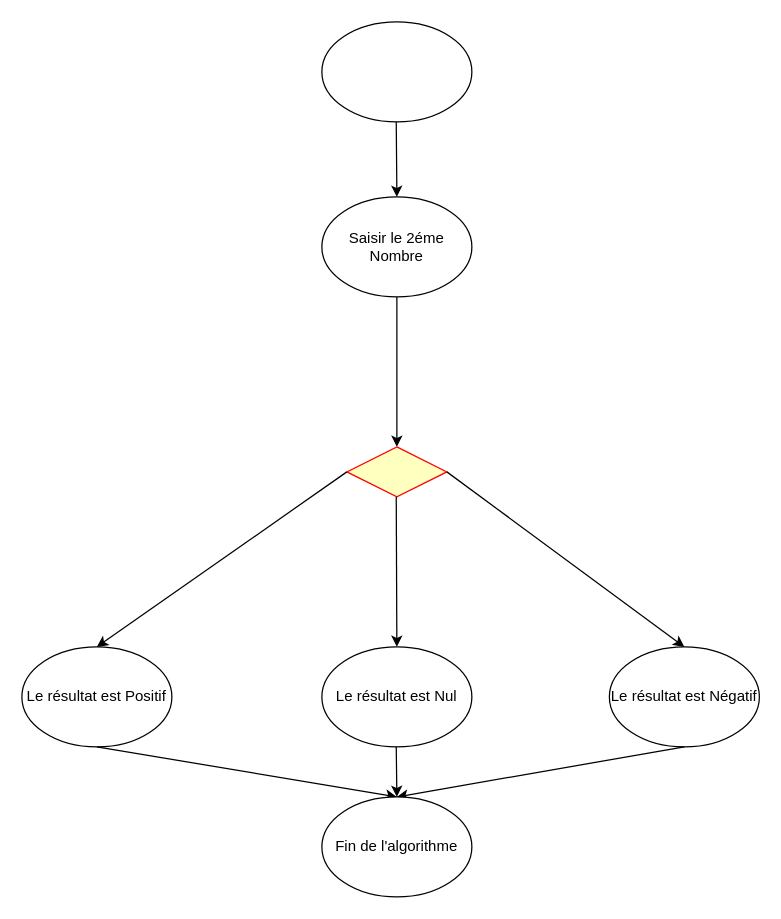
The diagram is 781 pixels wide and 919 high, and some of its shapes have lost their labels. The box of each missing label's shape, as (x1, y1, x2, y2) in pixels:
Saisir le 1er Nombre: (321, 21, 472, 122)
Si N1*N2>0: (346, 446, 447, 497)
